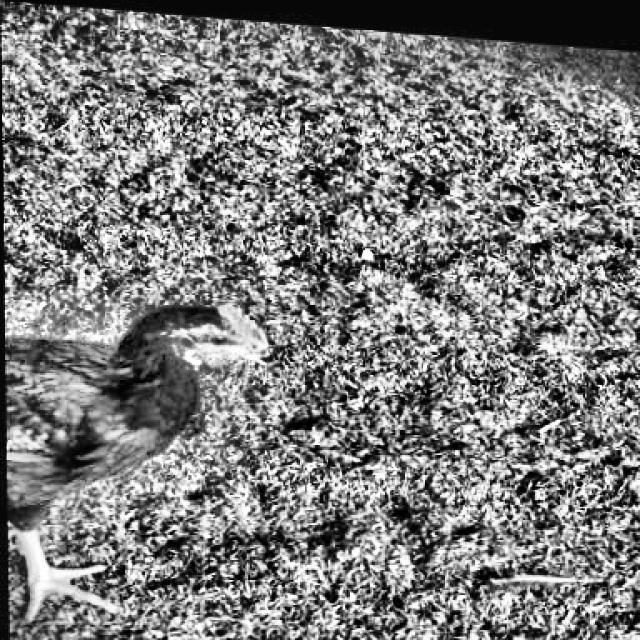Healthy: (188, 330, 244, 357)
